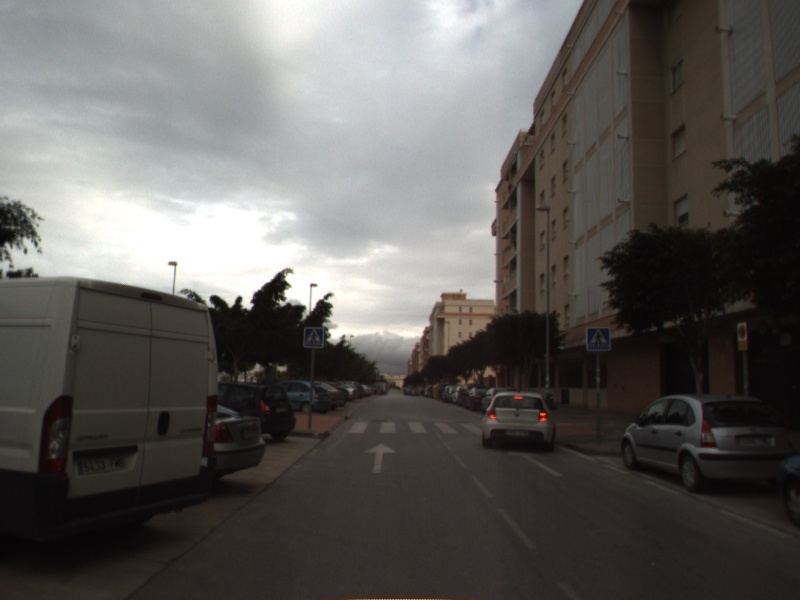STRAIGHT: (506, 449, 566, 479), (363, 441, 399, 474)
